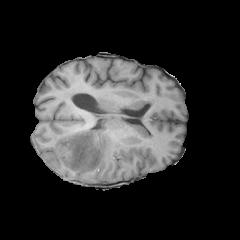glioma: (47, 127, 122, 183)
